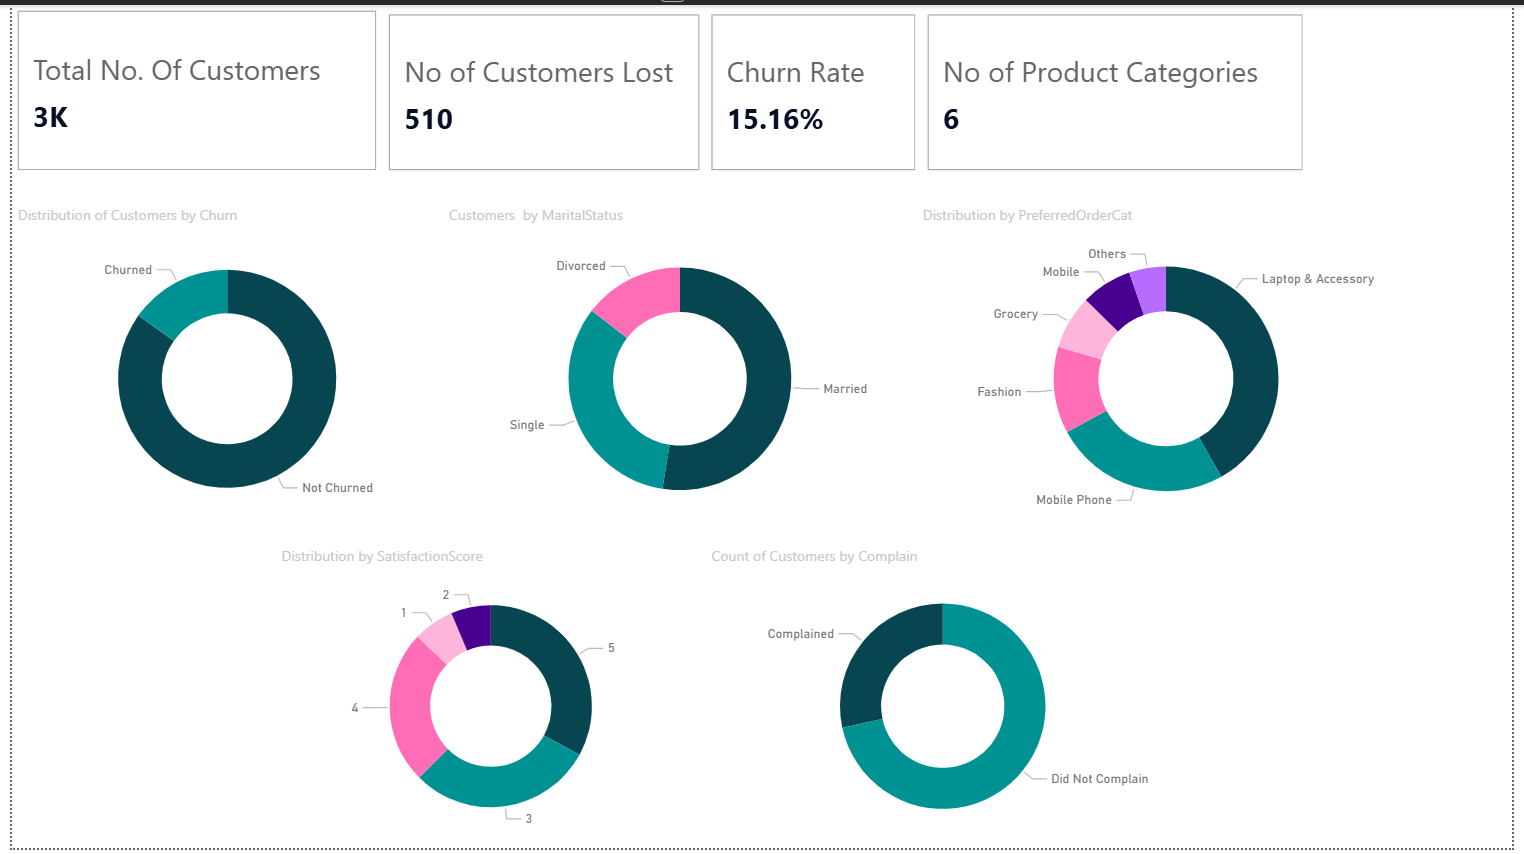

What the dashboard file says about the page in this screenshot:
{"tool":"powerbi","page":{"name":"Overview","canvas":[1280,720],"ordinal":0},"visuals":[{"type":"cardVisual","fields":{"Data":["data_ecommerce_customer_churn.customercount"]},"box":[0,0,316.7,146.7],"z":0},{"type":"donutChart","fields":{"Category":["data_ecommerce_customer_churn.Churn"],"Y":["CountNonNull(data_ecommerce_customer_churn.Churn)"]},"box":[0,171.1,367.8,281.1],"z":1000},{"type":"cardVisual","fields":{"Data":["data_ecommerce_customer_churn.No of Customers Lost"]},"box":[316.7,3.3,275.6,143.3],"z":2000},{"type":"cardVisual","fields":{"Data":["data_ecommerce_customer_churn.Churn Rate"]},"box":[592.2,3.3,184.4,143.3],"z":3000},{"type":"donutChart","fields":{"Category":["data_ecommerce_customer_churn.MaritalStatus"],"Y":["CountNonNull(data_ecommerce_customer_churn.MaritalStatus)"]},"box":[367.8,171.1,404.4,281.1],"z":4000},{"type":"donutChart","fields":{"Category":["data_ecommerce_customer_churn.PreferredOrderCat"],"Y":["CountNonNull(data_ecommerce_customer_churn.PreferredOrderCat)"]},"box":[772.2,171.1,425.6,281.1],"z":5000},{"type":"cardVisual","fields":{"Data":["data_ecommerce_customer_churn.No of Product Categories"]},"box":[776.7,3.3,330,143.3],"z":6000},{"type":"donutChart","fields":{"Y":["Sum(data_ecommerce_customer_churn.SatisfactionScore)"],"Category":["data_ecommerce_customer_churn.SatisfactionScore"]},"box":[225,462.5,367.5,257.5],"z":7000},{"type":"donutChart","fields":{"Category":["data_ecommerce_customer_churn.Complain"],"Y":["CountNonNull(data_ecommerce_customer_churn.Complain)"]},"box":[592.5,462.5,405,257.5],"z":8000}]}

Visuals, with their boxes in screenshot pixels (x1, y1, x2, y2), scaled from the page's 1280x720 canvas onto the 1524x854 screenshot:
cardVisual - data_ecommerce_customer_churn.customercount: {"left": 0, "top": 0, "right": 377, "bottom": 174}
donutChart - data_ecommerce_customer_churn.Churn x CountNonNull(data_ecommerce_customer_churn.Churn): {"left": 0, "top": 203, "right": 438, "bottom": 536}
cardVisual - data_ecommerce_customer_churn.No of Customers Lost: {"left": 377, "top": 4, "right": 705, "bottom": 174}
cardVisual - data_ecommerce_customer_churn.Churn Rate: {"left": 705, "top": 4, "right": 925, "bottom": 174}
donutChart - data_ecommerce_customer_churn.MaritalStatus x CountNonNull(data_ecommerce_customer_churn.MaritalStatus): {"left": 438, "top": 203, "right": 919, "bottom": 536}
donutChart - data_ecommerce_customer_churn.PreferredOrderCat x CountNonNull(data_ecommerce_customer_churn.PreferredOrderCat): {"left": 919, "top": 203, "right": 1426, "bottom": 536}
cardVisual - data_ecommerce_customer_churn.No of Product Categories: {"left": 925, "top": 4, "right": 1318, "bottom": 174}
donutChart - Sum(data_ecommerce_customer_churn.SatisfactionScore) x data_ecommerce_customer_churn.SatisfactionScore: {"left": 268, "top": 549, "right": 705, "bottom": 853}
donutChart - data_ecommerce_customer_churn.Complain x CountNonNull(data_ecommerce_customer_churn.Complain): {"left": 705, "top": 549, "right": 1188, "bottom": 853}
